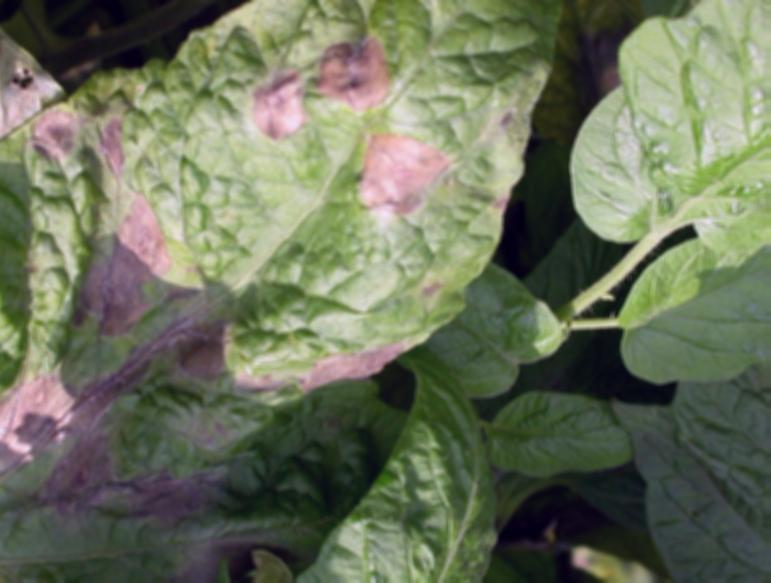Tomato leaf late blight: (0, 0, 558, 572), (632, 324, 771, 583)
